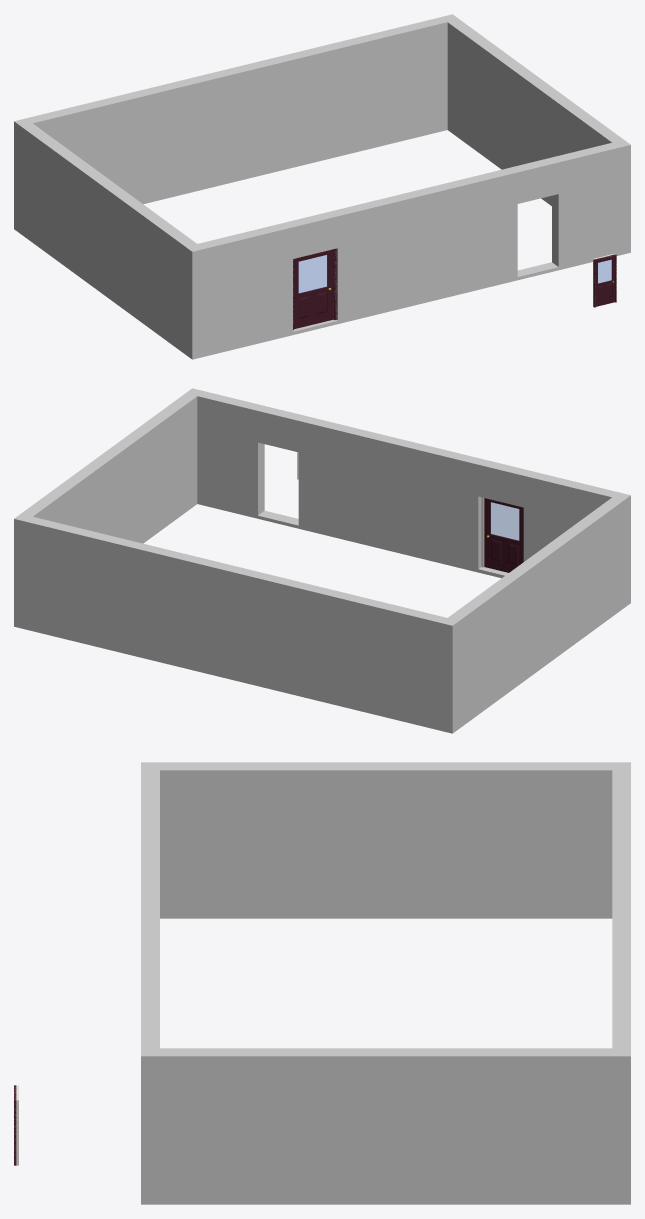
The model's file is twodoor.dae.
3 views of the same model, one above another, from view 1: azimuth 30°, elevation 25°; view 2: azimuth 150°, elevation 25°; view 3: azimuth 270°, elevation 25° (orthographic). The views are drawn at different scales.
Parts seen in each view (by area): view 1: group_0 (×3), group_5 (×2), group_4; view 2: group_0 (×3), group_5, group_4; view 3: group_0 (×2).
Part boxes in pixels (left/top/right/bottom): group_0 (×3): left=14, top=14, right=630, bottom=359; group_5 (×2): left=294, top=249, right=614, bottom=329; group_4: left=299, top=255, right=327, bottom=293; group_0 (×3): left=14, top=388, right=630, bottom=733; group_5: left=484, top=498, right=523, bottom=572; group_4: left=491, top=502, right=518, bottom=540; group_0 (×2): left=141, top=762, right=630, bottom=1204.
Size of the model in its own units: 4152 by 3683 by 986.
